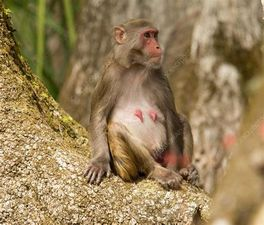monkey: (67, 18, 229, 197)
